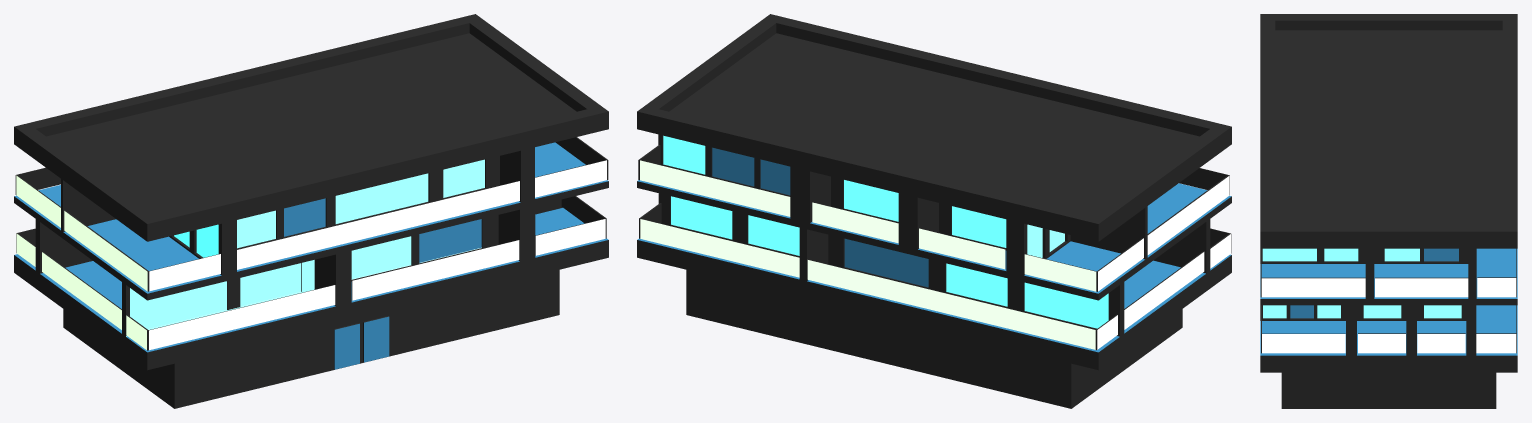
The model's file is l1building5.fbx.
The picture shows the model from 3 angles, left to right: view 1: azimuth 30°, elevation 25°; view 2: azimuth 150°, elevation 25°; view 3: azimuth 270°, elevation 25°; orthographic projection. The views are drawn at different scales.
Visible parts, largest first — view 1: Cube.246_LOD0; view 2: Cube.246_LOD0; view 3: Cube.246_LOD0.
Boxes of the visible parts, x1,y1,x2,y2 form: Cube.246_LOD0: (14,14,608,408); Cube.246_LOD0: (637,14,1231,408); Cube.246_LOD0: (1260,14,1517,408).
Size of what is drawn, in the model's own units: 24.18 by 10.13 by 12.09.
